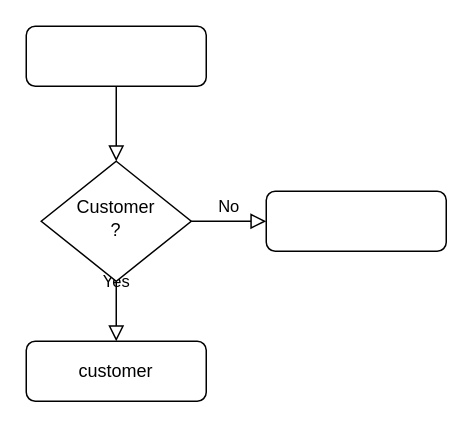
Image size: 473x428. Some labels were removed from this diagram. Here are the shapes that lost their labels. From the top down, the centre of each, then its label:
pixel 115 55: Start
pixel 355 220: Admin
